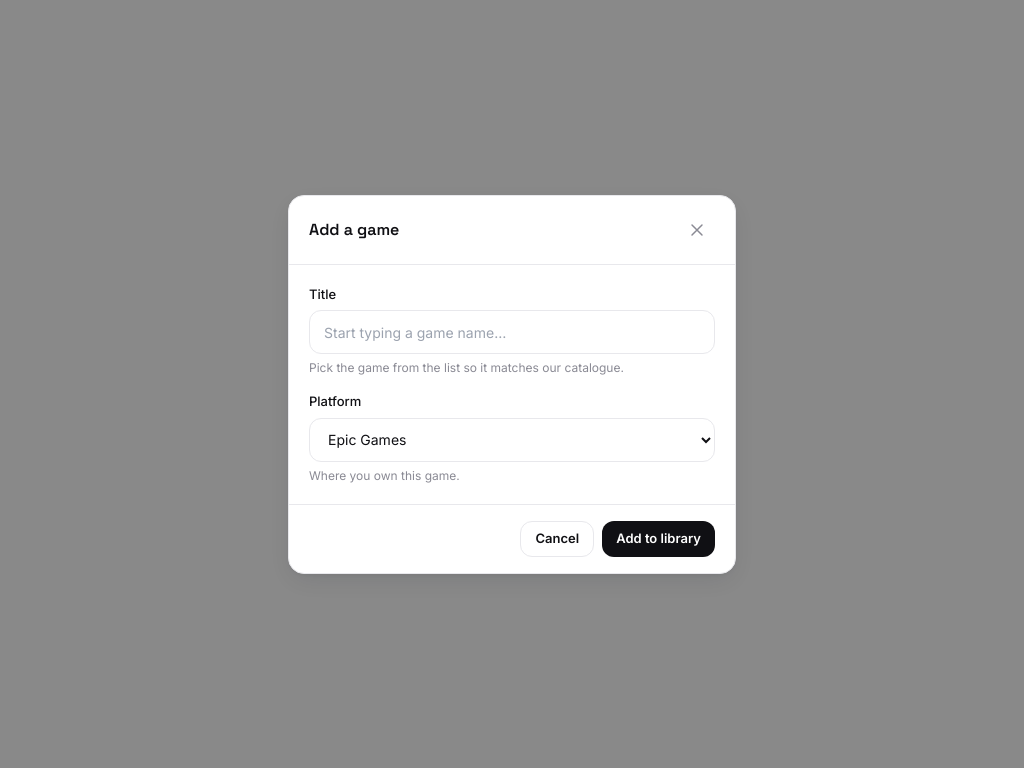
Test case: AddGameModal: duplicate entry prevented (TM11-54) › falls back to a generic message for an unexpected failure
This screenshot has width=1024, height=768.
In the dropdown labelled "Title": (512, 332) [309,310,715,354], type "hades"
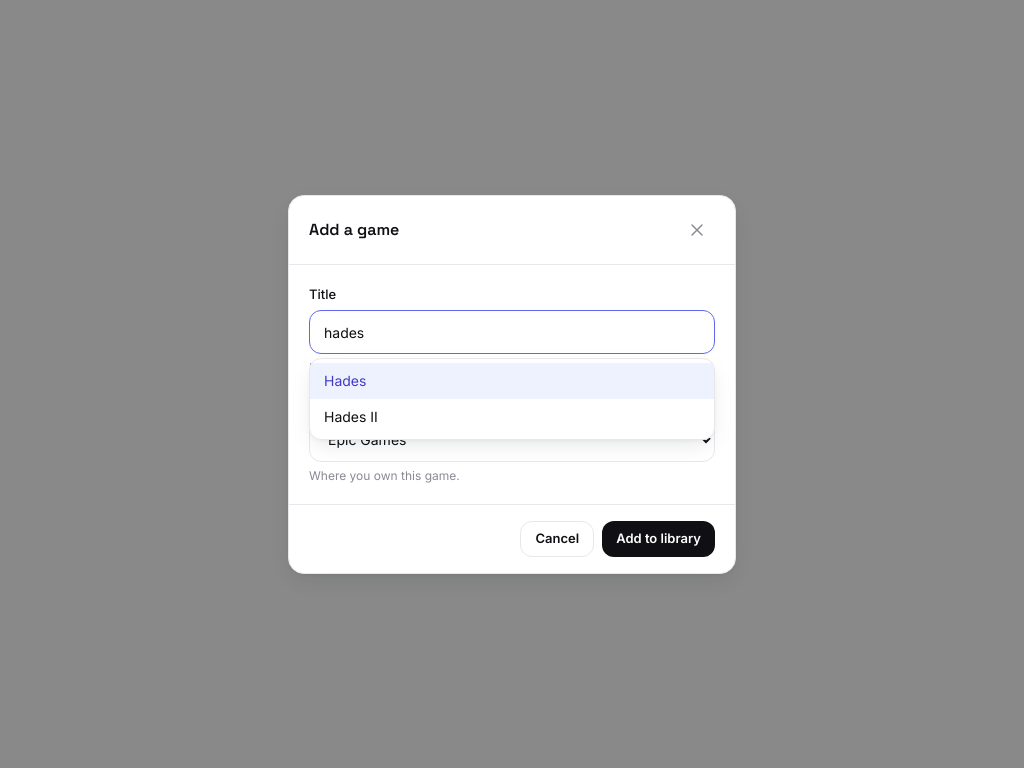
Click the option "Hades": (345, 380) [310,363,714,399]
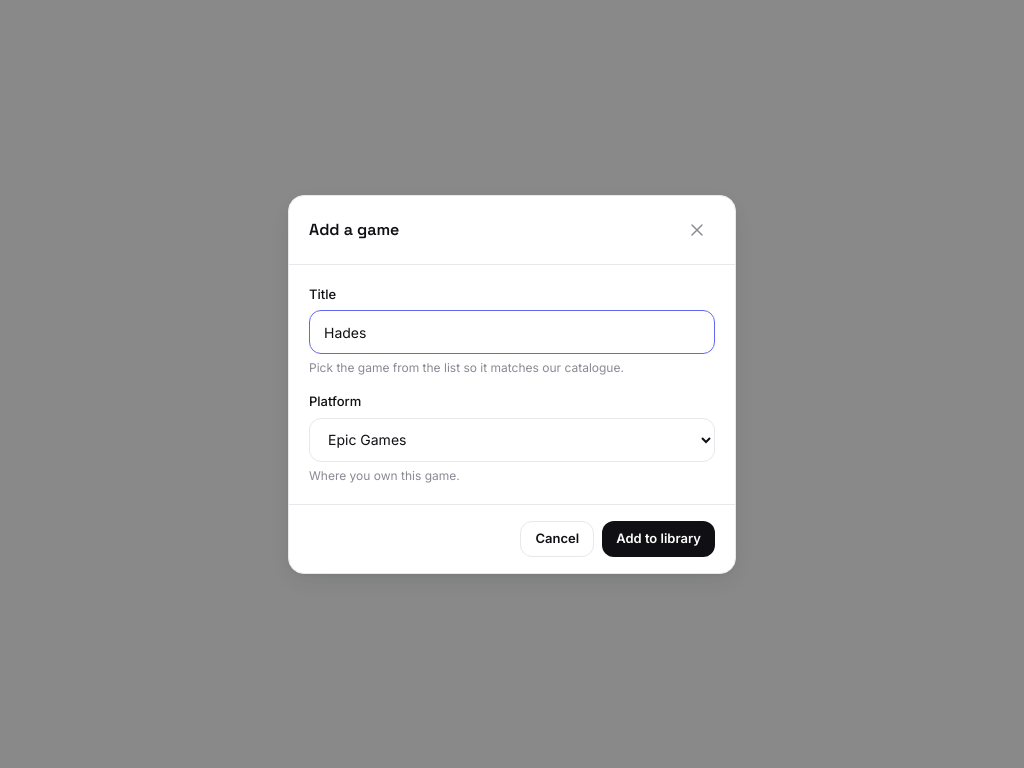
Click the button "Add to library": (659, 538) [602,520,715,556]
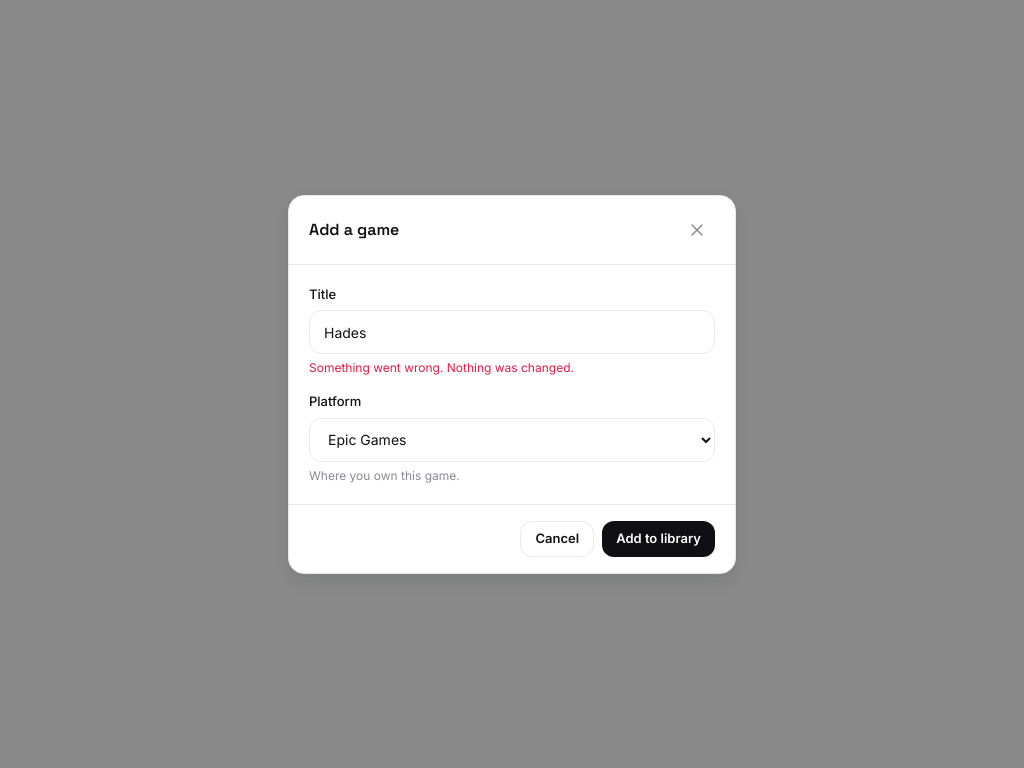
Now the text "Something went wrong. Nothing was changed." is shown, box [309,360,574,375]
